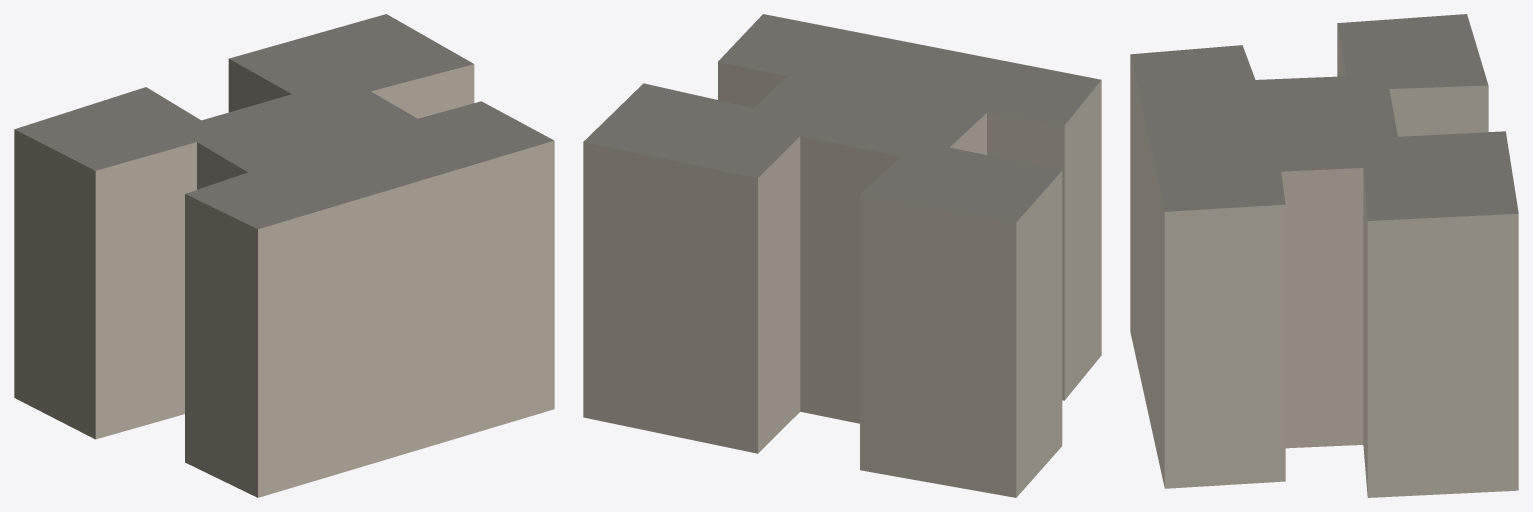
The picture shows the model from 3 angles, left to right: view 1: azimuth 30°, elevation 25°; view 2: azimuth 150°, elevation 25°; view 3: azimuth 270°, elevation 25°; orthographic projection. The views are drawn at different scales.
Visible parts, largest first — view 1: HP-w1058562711; view 2: HP-w1058562711; view 3: HP-w1058562711.
Part boxes in pixels (<box>): HP-w1058562711: <box>14,14,554,497</box>; HP-w1058562711: <box>583,14,1101,497</box>; HP-w1058562711: <box>1130,14,1518,497</box>.
Size of the model in its own units: 28.87 by 18 by 22.9.
